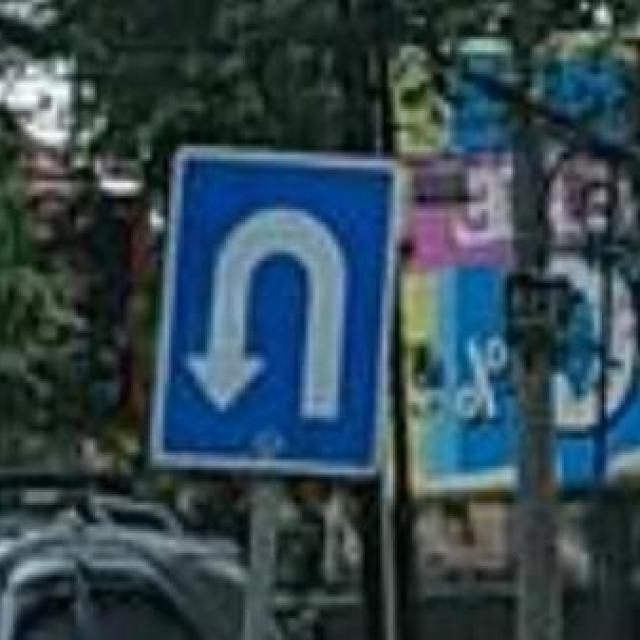U-turn: (171, 144, 381, 476)
